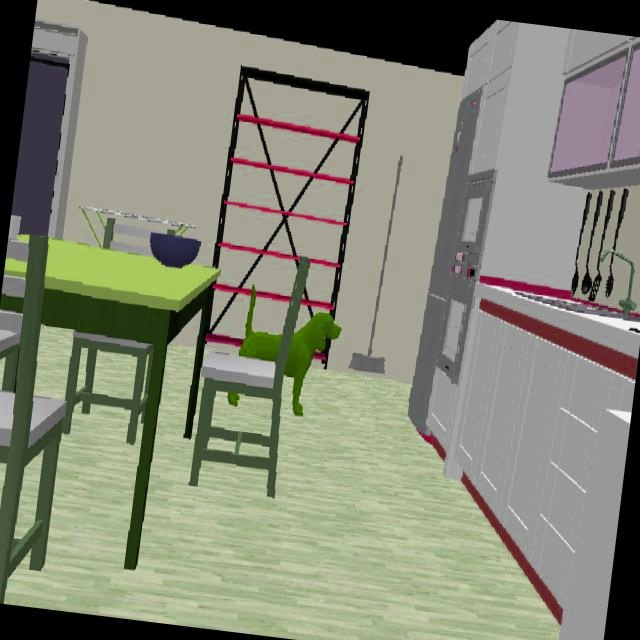cabinet: (426, 312, 635, 610), (461, 19, 640, 291)
chair: (190, 256, 310, 497), (0, 235, 67, 603)
countertop: (474, 275, 640, 381)
fridge: (408, 89, 479, 434)
sink: (512, 249, 637, 318)
table: (40, 240, 220, 571)
